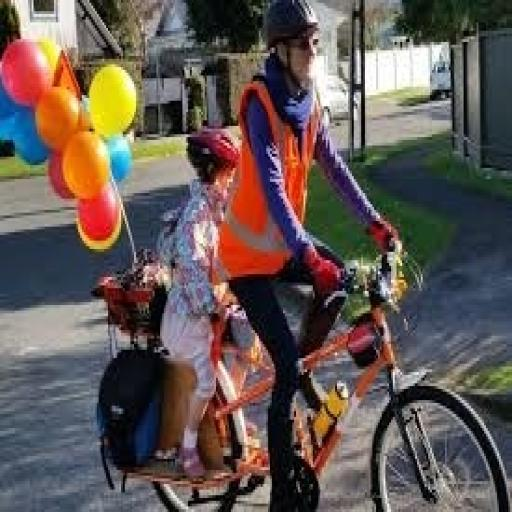cycling: (216, 0, 404, 509), (147, 123, 250, 484)
